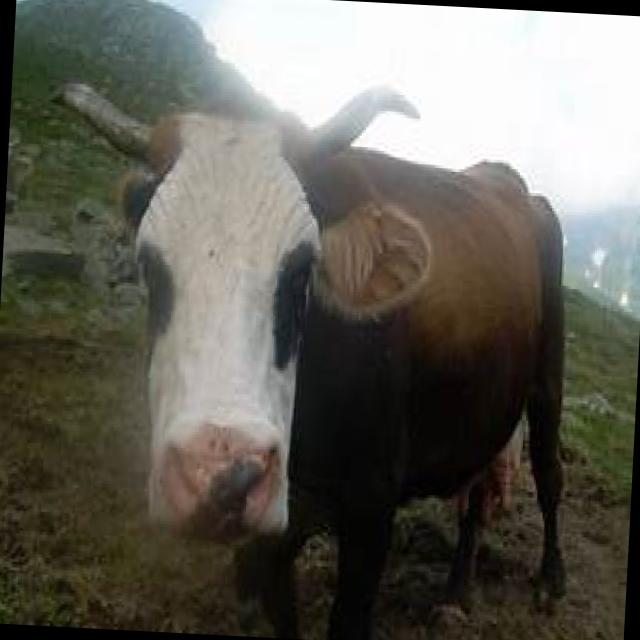animal: (26, 72, 595, 640)
